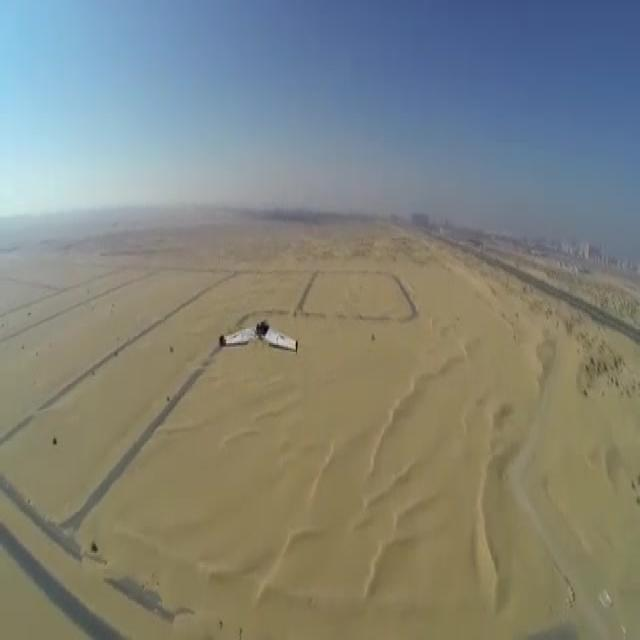iha: (250, 319, 267, 354)
